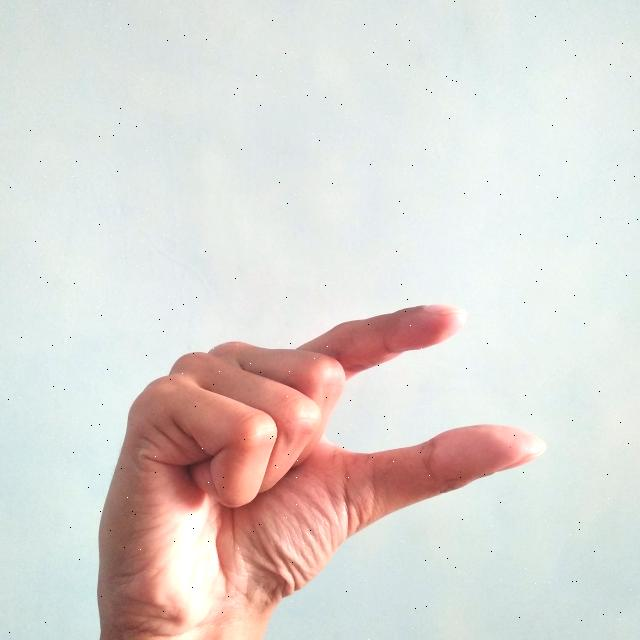G: (98, 301, 553, 640)
